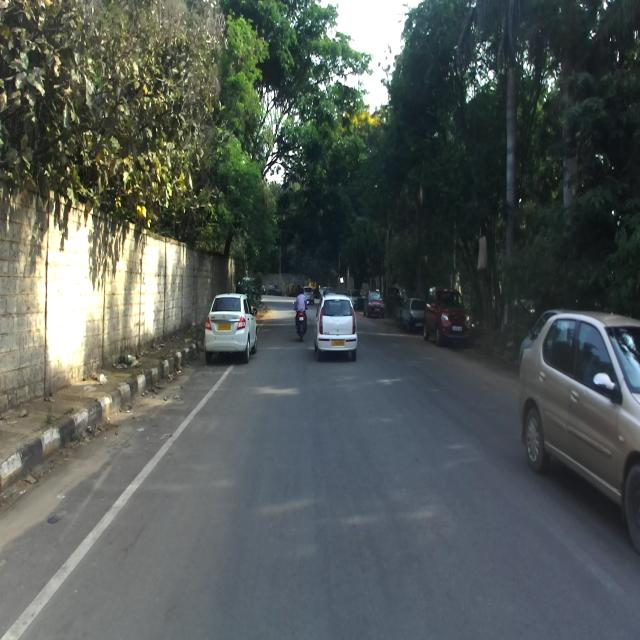car ahead at: (518, 307, 640, 545), (205, 289, 256, 365), (316, 293, 360, 358), (426, 289, 474, 341)
